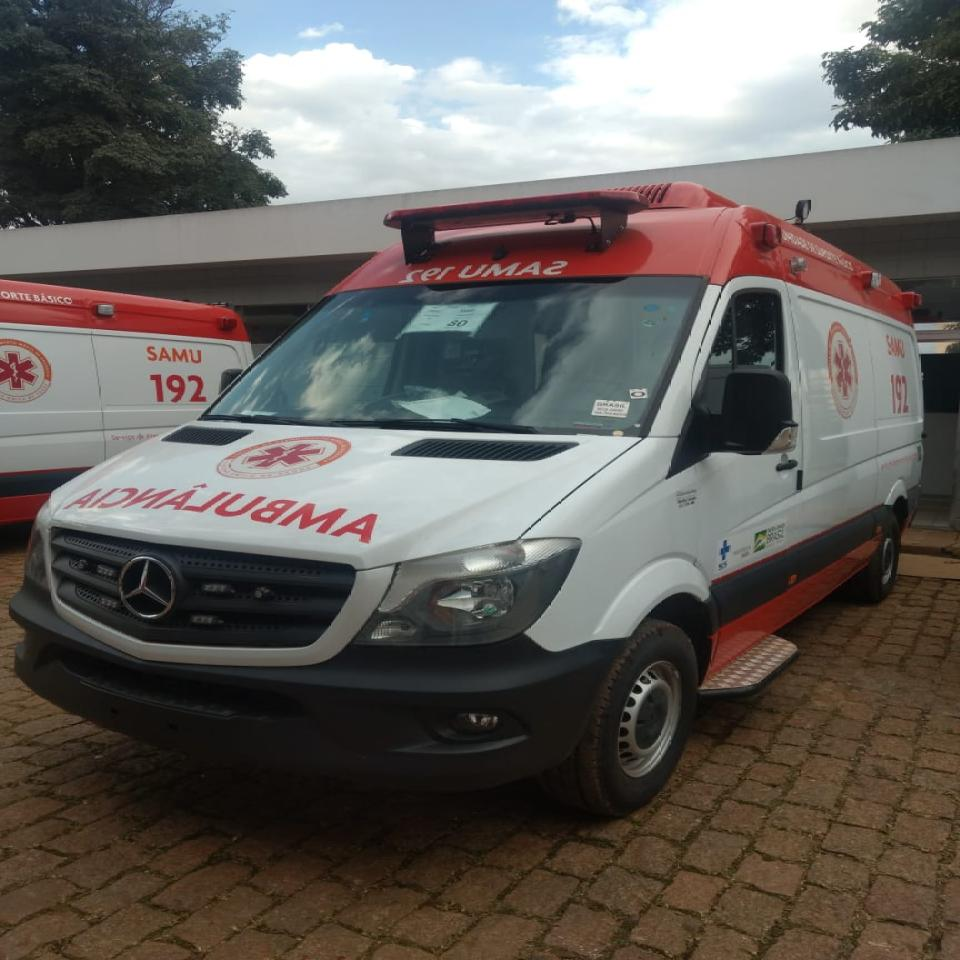bombeiro: (7, 182, 924, 812), (0, 280, 259, 520)
